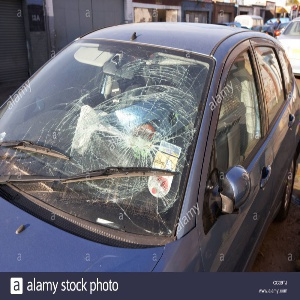front_windshield_glass: (27, 65, 197, 201)
